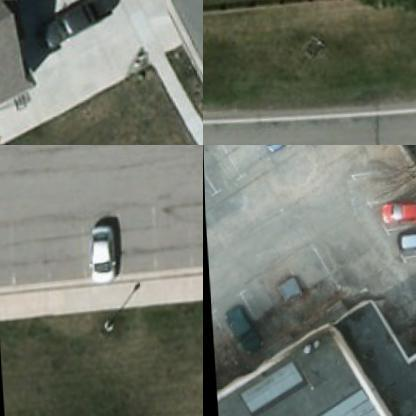car: (221, 300, 262, 358), (84, 224, 116, 288), (373, 196, 415, 229), (394, 227, 415, 256), (244, 145, 286, 158)
pickup: (34, 0, 111, 52)
